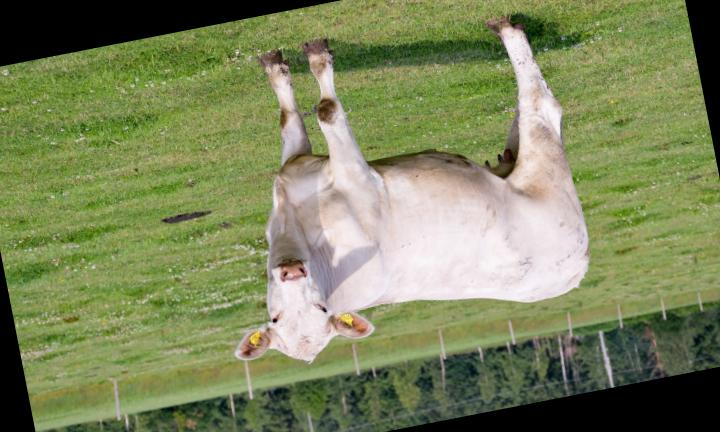Charolais: (235, 17, 589, 360)
